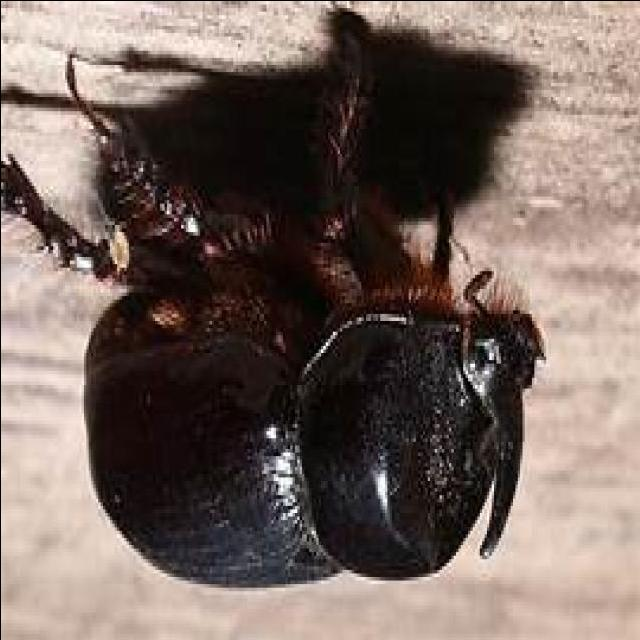Rhino-beetle: (26, 101, 545, 599)
